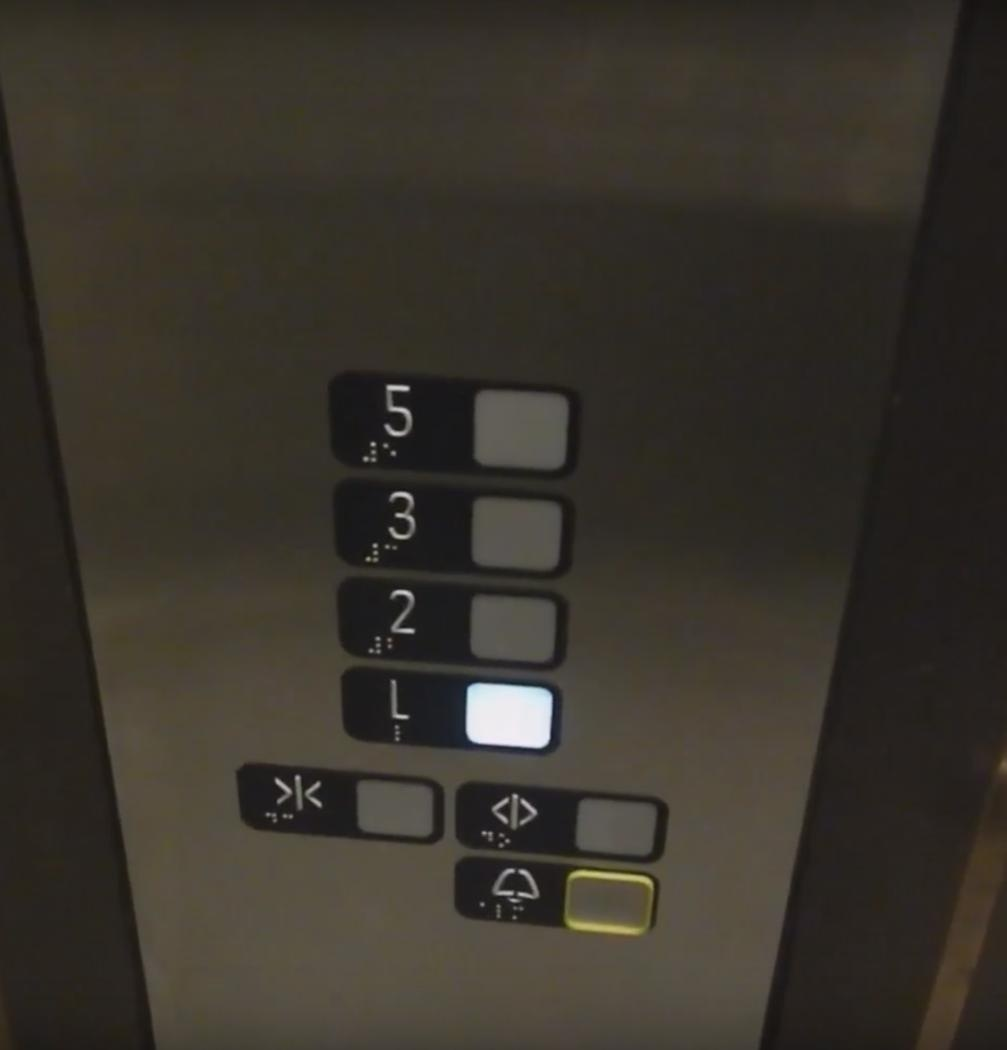2: (331, 569, 573, 674)
3: (329, 476, 574, 583)
5: (324, 366, 580, 482)
L: (335, 658, 566, 758)
alarm: (449, 852, 661, 945)
close: (236, 756, 447, 846)
open: (450, 775, 670, 865)
